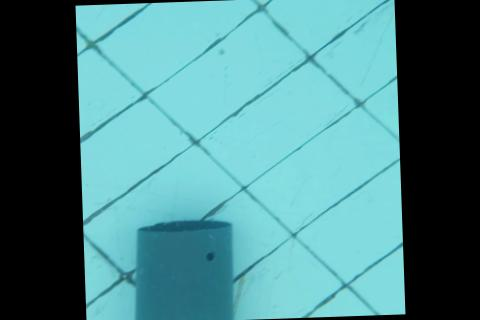kebocoran: (204, 252, 214, 262)
